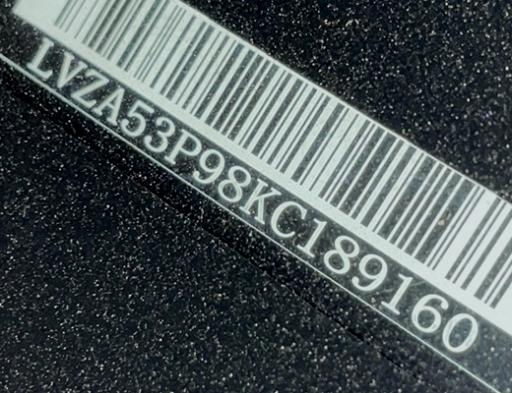letter: (240, 178, 282, 223), (438, 312, 480, 354), (408, 293, 450, 334), (70, 67, 110, 106), (350, 252, 388, 293), (323, 235, 361, 274), (92, 84, 128, 125), (380, 272, 414, 315), (52, 50, 88, 90), (24, 37, 58, 79), (269, 200, 307, 237), (216, 165, 252, 202), (163, 129, 201, 164), (142, 117, 178, 153), (119, 99, 153, 137), (192, 147, 226, 185), (297, 218, 329, 257)
